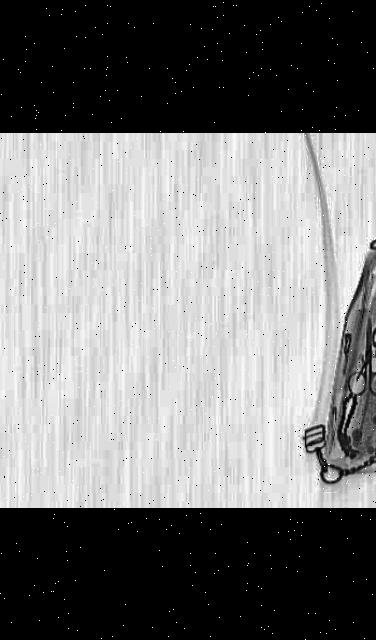Scissors: (346, 315, 376, 394)
